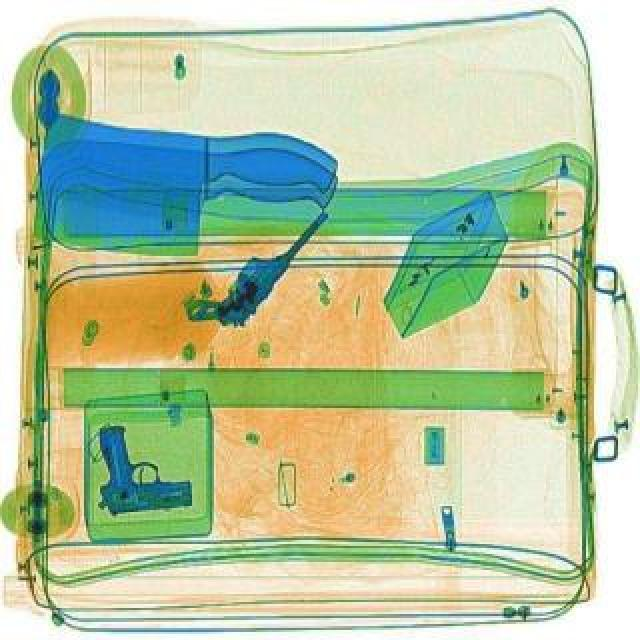gun: (178, 198, 354, 346), (82, 408, 194, 516)
knife: (20, 120, 336, 268), (38, 114, 338, 204)
